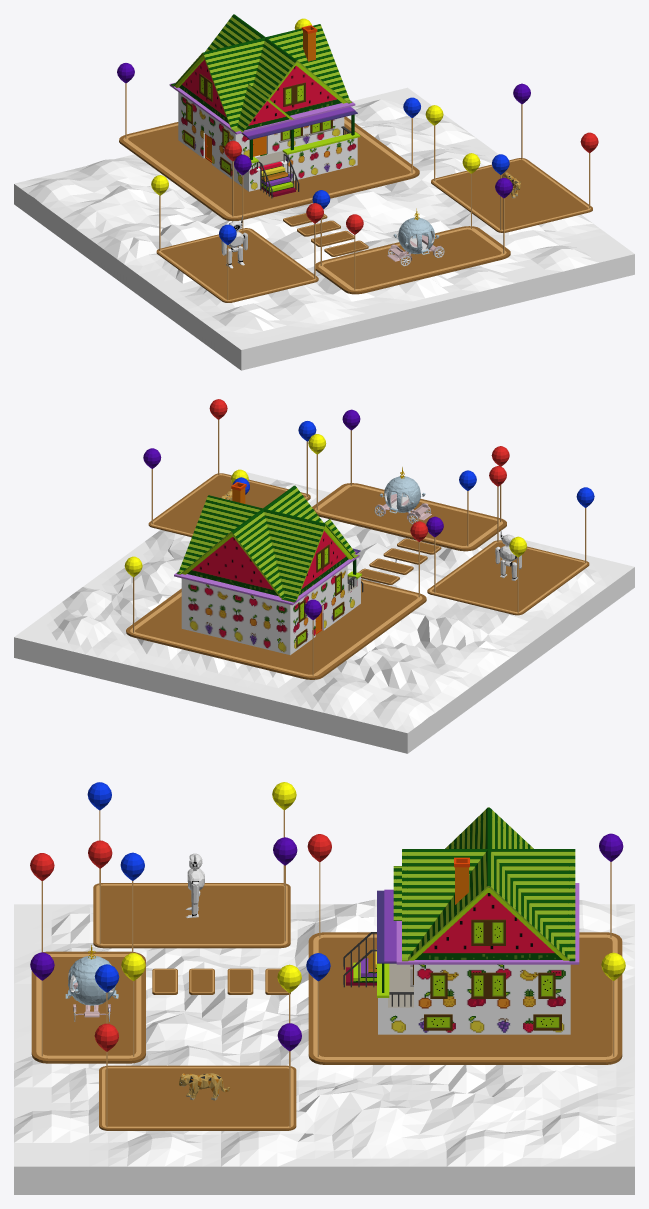
3 renders of one model, top to bottom at view 1: azimuth 30°, elevation 25°; view 2: azimuth 150°, elevation 25°; view 3: azimuth 270°, elevation 25°, orthographic. The views are drawn at different scales.
Parts seen in each view (by area): view 1: Cube.013, Cube.1063, VEHICLES_FANTASY_CARRIAGE, OBJRANDOM_PLATZEEBOT; view 2: Cube.013, Cube.1063, VEHICLES_FANTASY_CARRIAGE, OBJRANDOM_PLATZEEBOT; view 3: Cube.013, Cube.1063, VEHICLES_FANTASY_CARRIAGE, ANIMAL_JAGUAR, OBJRANDOM_PLATZEEBOT.
Boxes of the visible parts, x1,y1,x2,y2 form: Cube.013: [14, 18, 634, 370]; Cube.1063: [169, 14, 360, 198]; VEHICLES_FANTASY_CARRIAGE: [387, 208, 444, 266]; OBJRANDOM_PLATZEEBOT: [221, 216, 247, 268]; Cube.013: [14, 399, 634, 753]; Cube.1063: [174, 482, 363, 655]; VEHICLES_FANTASY_CARRIAGE: [374, 467, 431, 524]; OBJRANDOM_PLATZEEBOT: [495, 530, 521, 580]; Cube.013: [14, 782, 634, 1194]; Cube.1063: [343, 807, 579, 1034]; VEHICLES_FANTASY_CARRIAGE: [65, 945, 118, 1021]; ANIMAL_JAGUAR: [179, 1073, 230, 1100]; OBJRANDOM_PLATZEEBOT: [186, 853, 204, 918].
Bounding box in the file's own units: 4000 × 1688 × 4000.
Materials: 35 (3 with a texture image).
